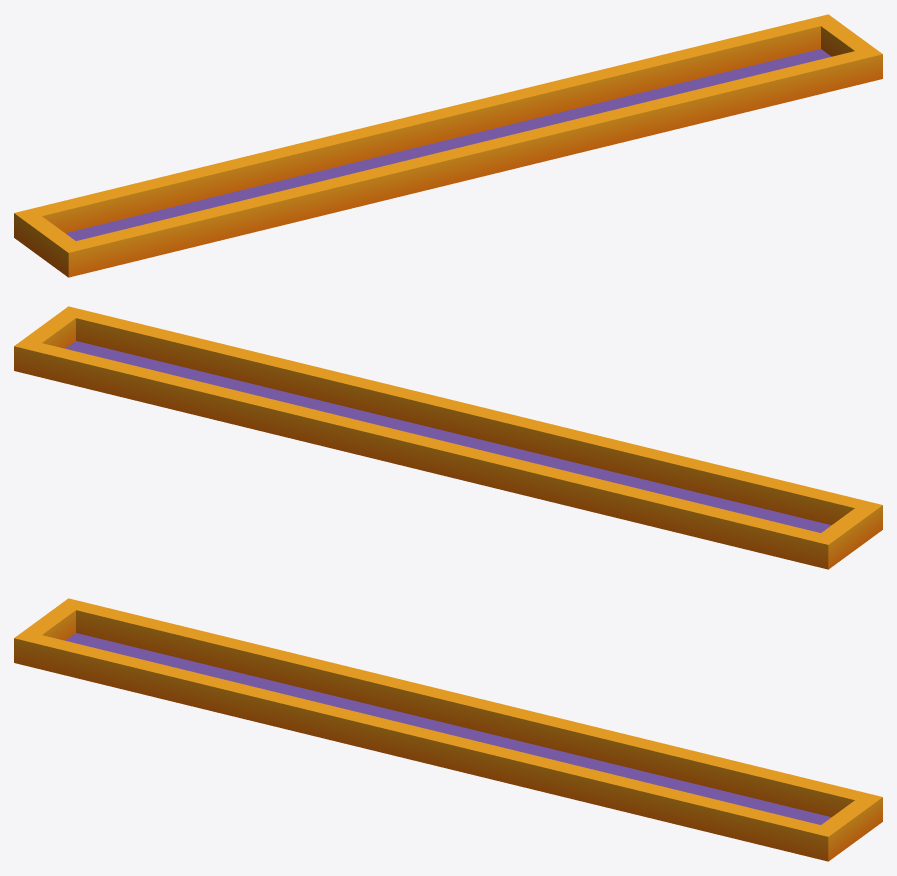
The model's file is Gound_Socket_02.fbx.
The picture shows the model from 3 angles, top to bottom: view 1: azimuth 30°, elevation 25°; view 2: azimuth 150°, elevation 25°; view 3: azimuth 330°, elevation 25°; orthographic projection.
Visible parts, largest first — view 1: Obstacle_Gound_Socket_02; view 2: Obstacle_Gound_Socket_02; view 3: Obstacle_Gound_Socket_02.
Part boxes in pixels (box(x1,y1,x2,y2)): Obstacle_Gound_Socket_02: box(14, 14, 882, 277); Obstacle_Gound_Socket_02: box(14, 306, 882, 569); Obstacle_Gound_Socket_02: box(14, 598, 882, 861).
Size of the model in its own units: 173 by 5 by 20.
Materials: 1 (1 with a texture image).
